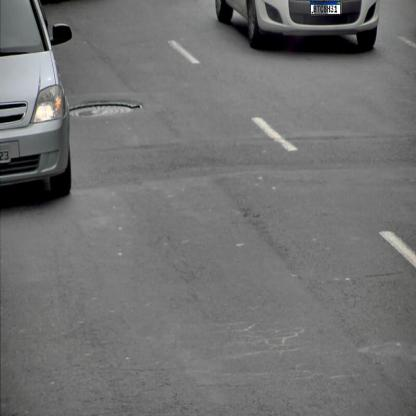PlacaM: (310, 0, 340, 14)
